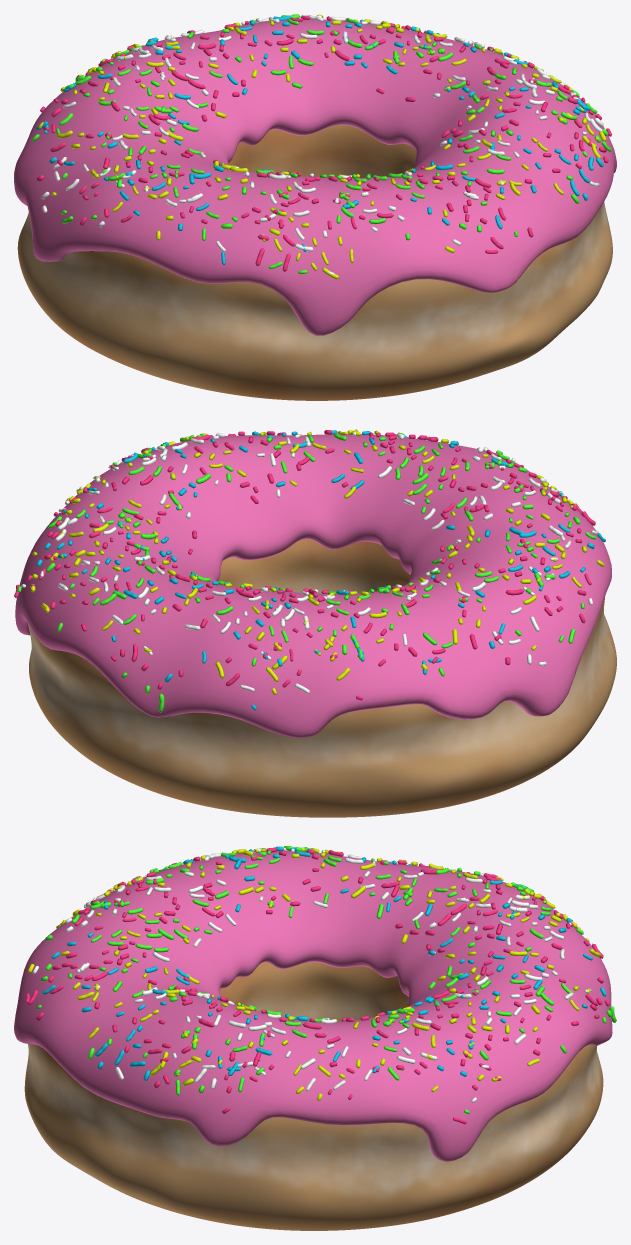
File: Real_Donut2.fbx
The picture shows the model from 3 angles, top to bottom: view 1: azimuth 30°, elevation 25°; view 2: azimuth 150°, elevation 25°; view 3: azimuth 270°, elevation 25°; orthographic projection.
Visible parts, largest first — view 1: Icing, Donut, Sprinkles; view 2: Icing, Donut, Sprinkles; view 3: Icing, Donut, Sprinkles.
Boxes of the visible parts, box(x1,y1,x2,y2) form: Icing: box(14, 19, 616, 335); Donut: box(17, 125, 612, 400); Sprinkles: box(32, 14, 611, 279); Icing: box(15, 434, 611, 737); Donut: box(28, 539, 616, 817); Sprinkles: box(14, 429, 605, 712); Icing: box(14, 850, 612, 1161); Donut: box(24, 962, 603, 1230); Sprinkles: box(25, 846, 616, 1124).
Bounding box in the file's own units: 22.55 × 8.5 × 23.02.
Materials: 3 (2 with a texture image).
